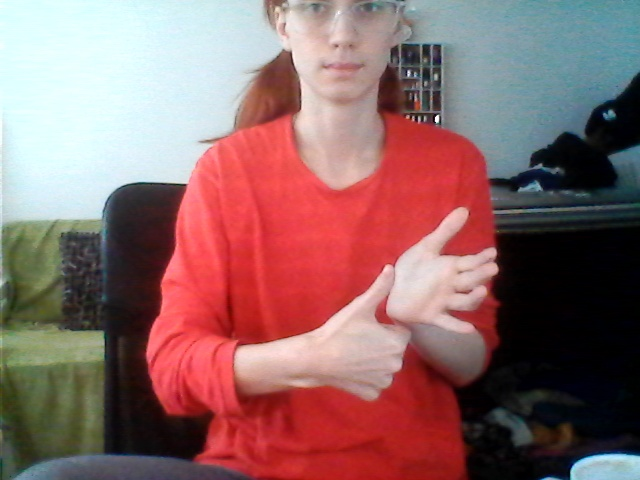pivo: (339, 202, 502, 420)
